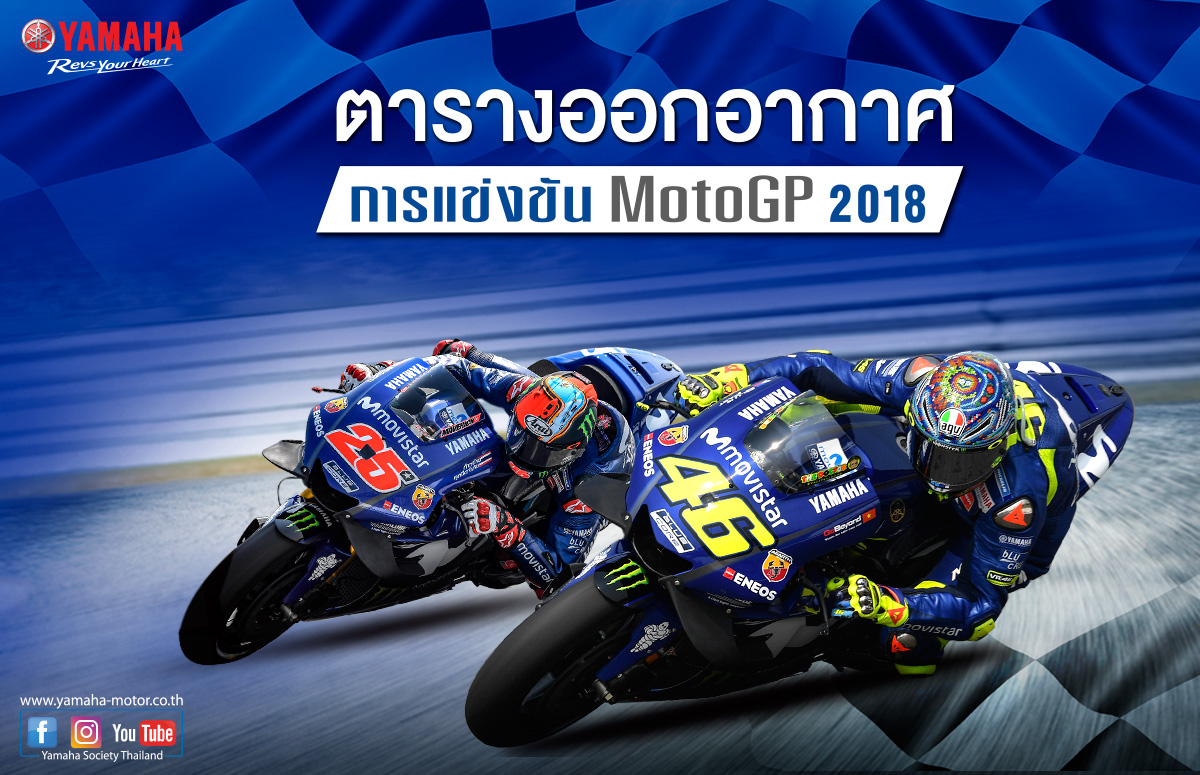helmet: (911, 341, 1017, 496), (500, 364, 597, 475)
